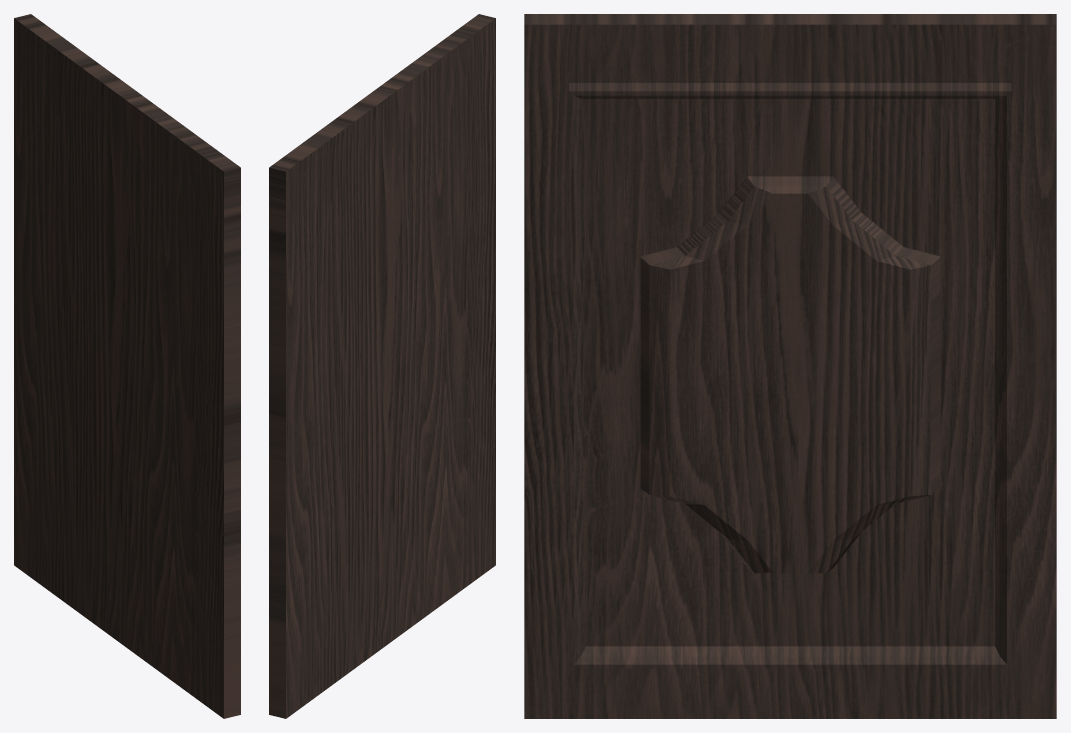
File: wood_cabinet_door.glb
3 views of the same model, side by side, from view 1: azimuth 30°, elevation 25°; view 2: azimuth 150°, elevation 25°; view 3: azimuth 270°, elevation 25° (orthographic). The views are drawn at different scales.
Parts seen in each view (by area): view 1: Cube.1412; view 2: Cube.1412; view 3: Cube.1412.
Part boxes in pixels (x1=…): Cube.1412: x1=14, y1=14, x2=240, y2=718; Cube.1412: x1=269, y1=14, x2=495, y2=718; Cube.1412: x1=524, y1=14, x2=1056, y2=718.
Size of the model in its own units: 0.0349 by 0.5196 by 0.3612.
Materials: 1 (1 with a texture image).
